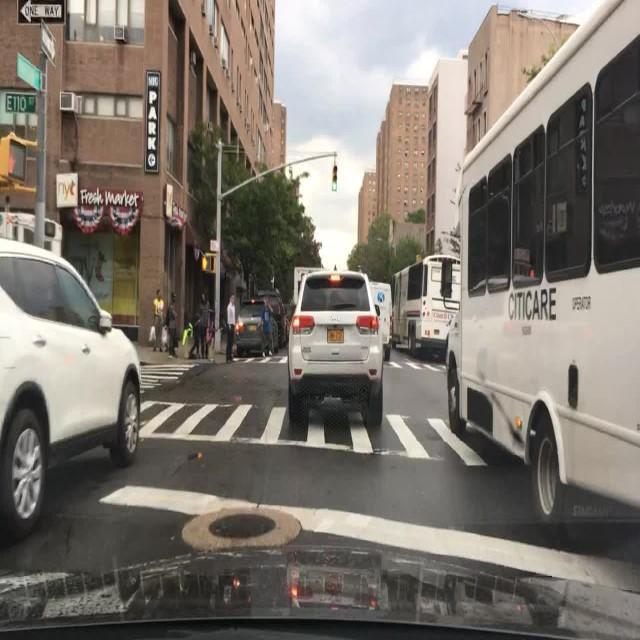normal: (209, 237, 426, 453)
